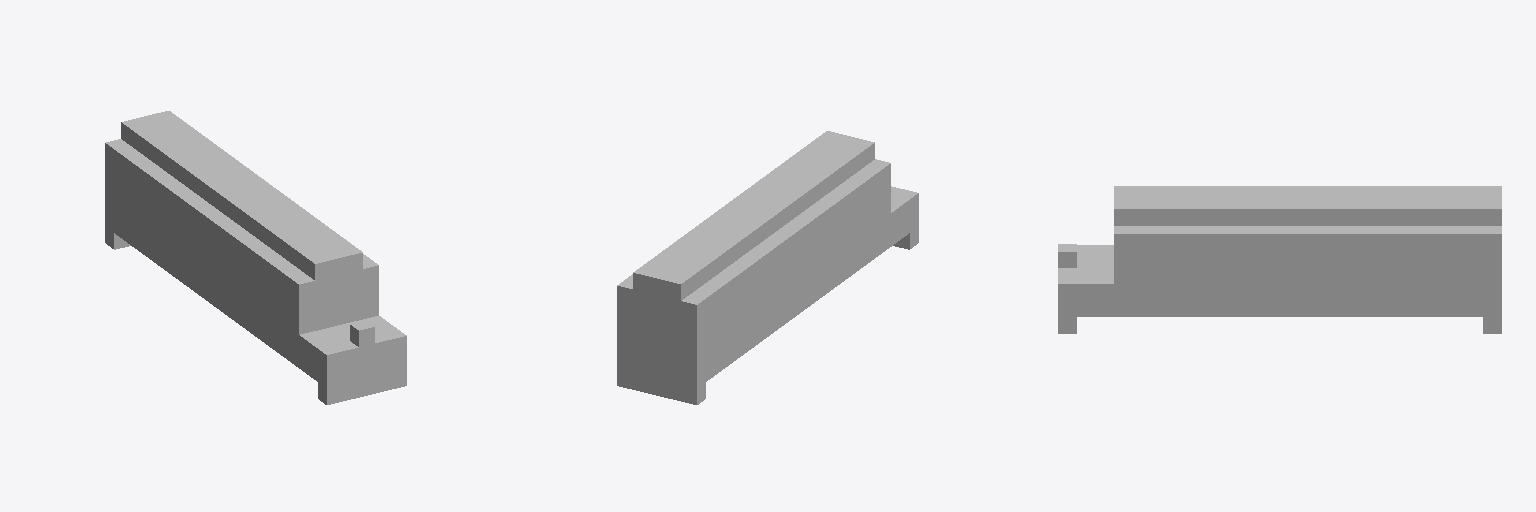
File: bus.obj
3 renders of one model, left to right at view 1: azimuth 30°, elevation 25°; view 2: azimuth 150°, elevation 25°; view 3: azimuth 270°, elevation 25°, orthographic.
Visible parts, largest first — view 1: object 1; view 2: object 1; view 3: object 1.
Part boxes in pixels (left/top/right/bottom): object 1: left=105, top=111, right=406, bottom=404; object 1: left=617, top=131, right=918, bottom=404; object 1: left=1058, top=186, right=1501, bottom=333.
Bounding box in the file's own units: 0.5 × 0.7 × 2.4.